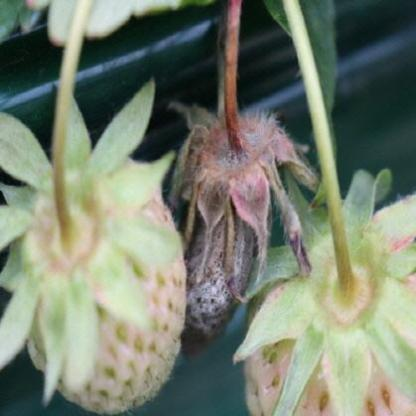Strawberry_Gray_Mold: (164, 94, 322, 361)
